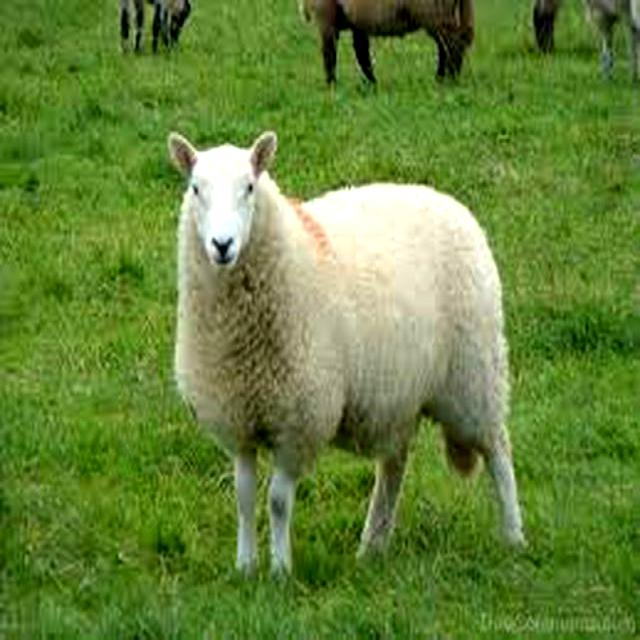sheep: (165, 130, 526, 577)
